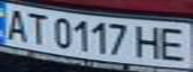0: (48, 15, 72, 49)
1: (87, 19, 109, 55), (69, 17, 90, 52)
7: (106, 20, 133, 56)
A: (0, 6, 30, 42)
E: (154, 25, 190, 62)
H: (133, 22, 166, 60)
T: (24, 10, 51, 45)
